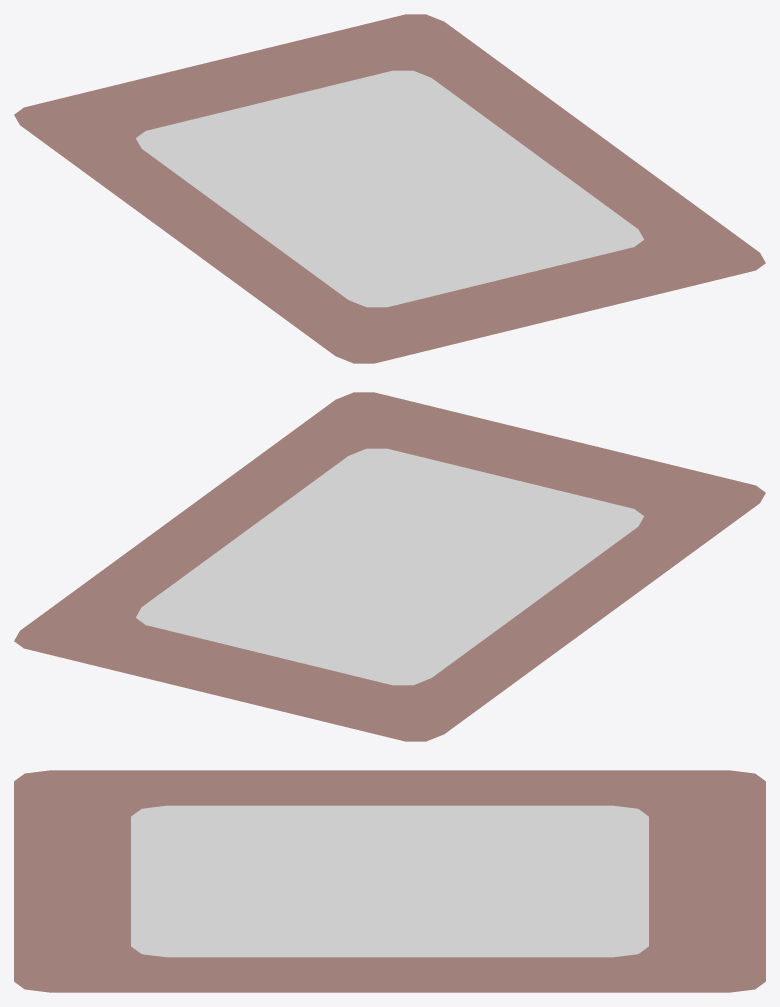
The model's file is Fora do Campo Grama e Piso.fbx.
The picture shows the model from 3 angles, top to bottom: view 1: azimuth 30°, elevation 25°; view 2: azimuth 150°, elevation 25°; view 3: azimuth 270°, elevation 25°; orthographic projection. The views are drawn at different scales.
Parts seen in each view (by area): view 1: Grama e piso; view 2: Grama e piso; view 3: Grama e piso.
Part boxes in pixels (bbox=[...]): Grama e piso: bbox=[14, 14, 765, 363]; Grama e piso: bbox=[14, 392, 765, 741]; Grama e piso: bbox=[14, 770, 765, 992].
Size of the model in its own units: 14000 by 0.00326 by 20000.
